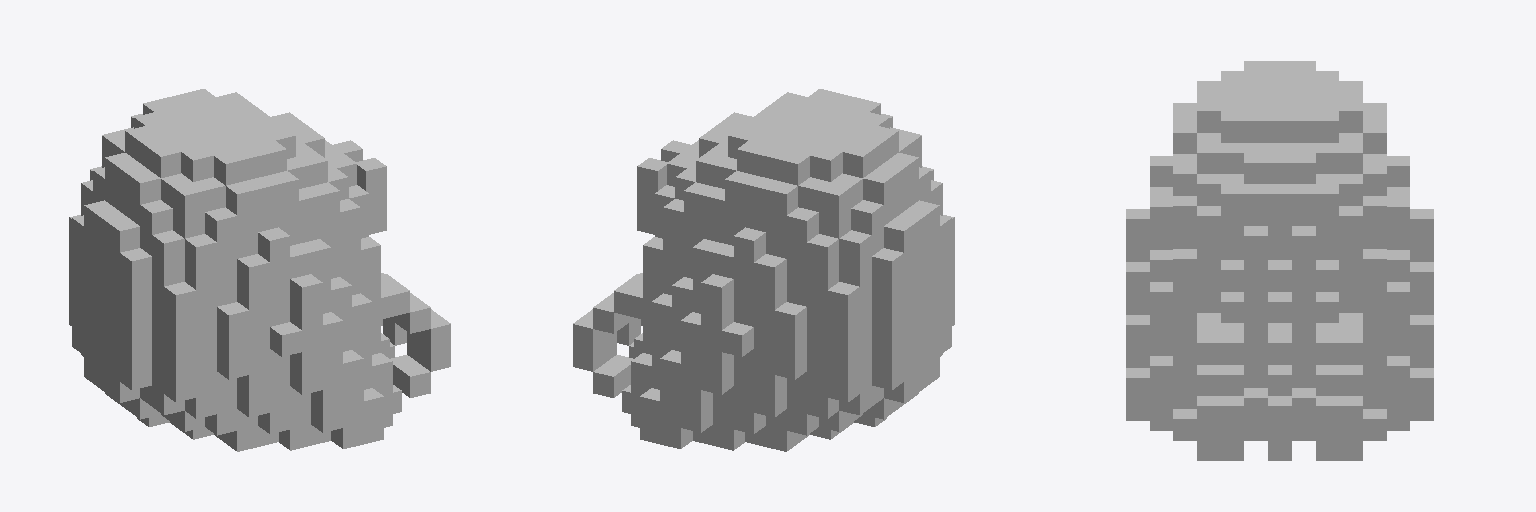
File: Player.obj
The picture shows the model from 3 angles: view 1: azimuth 30°, elevation 25°; view 2: azimuth 150°, elevation 25°; view 3: azimuth 270°, elevation 25°; orthographic projection.
Bounding box in the file's own units: 15 × 13 × 13.